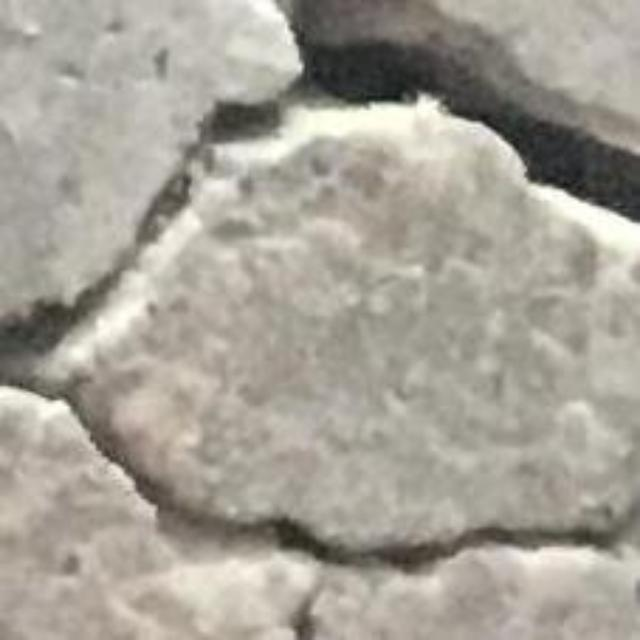crack: (0, 0, 639, 572)
